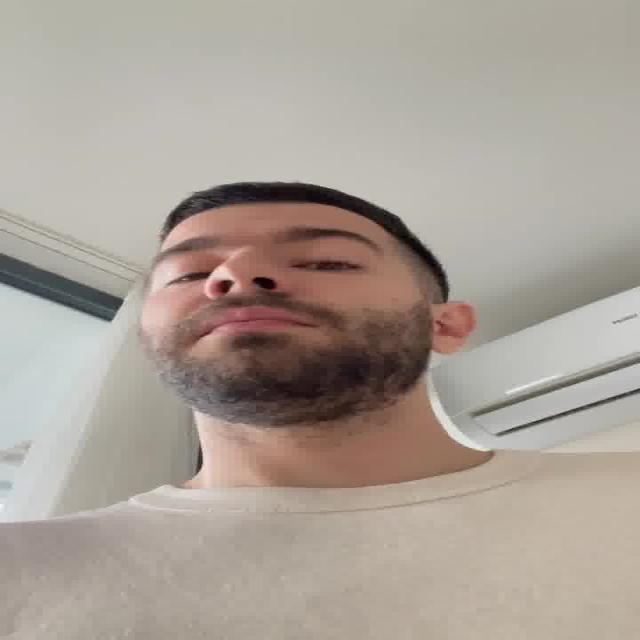earlobe: (428, 300, 476, 356)
